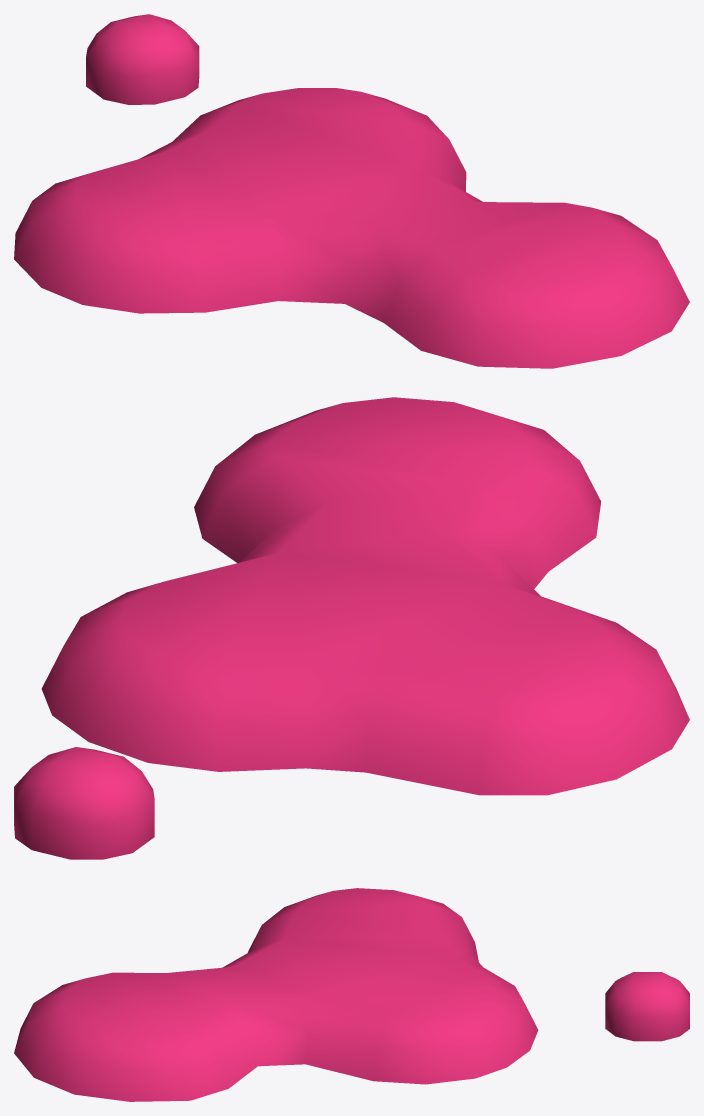
Rendered from colorspot_c.glb.
The picture shows the model from 3 angles, top to bottom: view 1: azimuth 30°, elevation 25°; view 2: azimuth 150°, elevation 25°; view 3: azimuth 270°, elevation 25°; orthographic projection. The views are drawn at different scales.
Parts seen in each view (by area): view 1: ColorSpot2; view 2: ColorSpot2; view 3: ColorSpot2.
Part boxes in pixels (left/top/right/bottom): ColorSpot2: left=14, top=14, right=689, bottom=368; ColorSpot2: left=14, top=397, right=689, bottom=859; ColorSpot2: left=14, top=888, right=689, bottom=1101.
Size of the model in its own units: 0.0201 by 0.00226 by 0.0304.
1 material, 1 textured.
